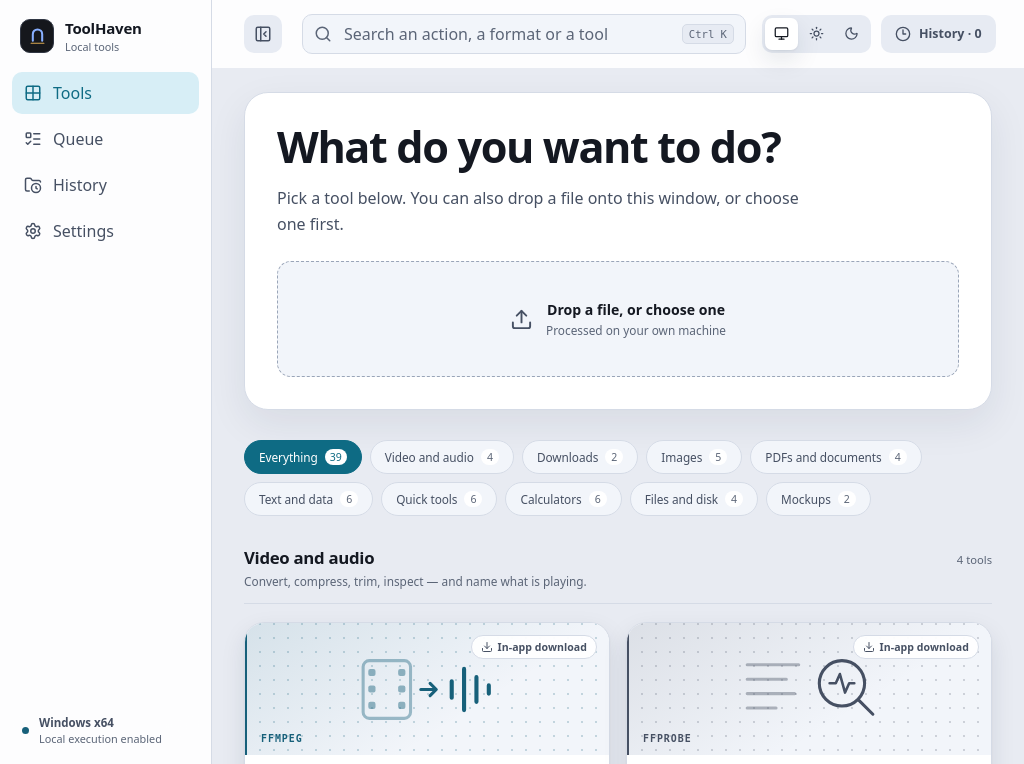
desktop catalog › filters the catalog from the global search
The image size is (1024, 764).
Type "pdf" into the search field. click: x=507, y=34
box: [342,22,672,46]
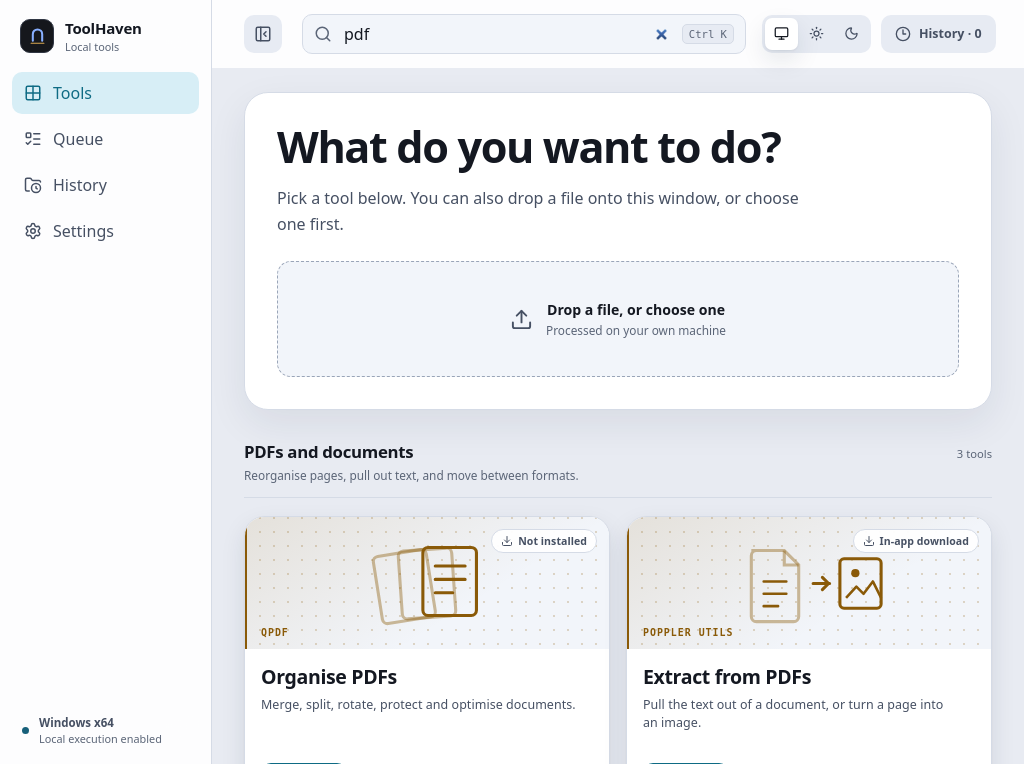
Expected: the heading "PDFs and documents" is shown, [244,440,413,463]
Result: the button "Downloads" is gone
